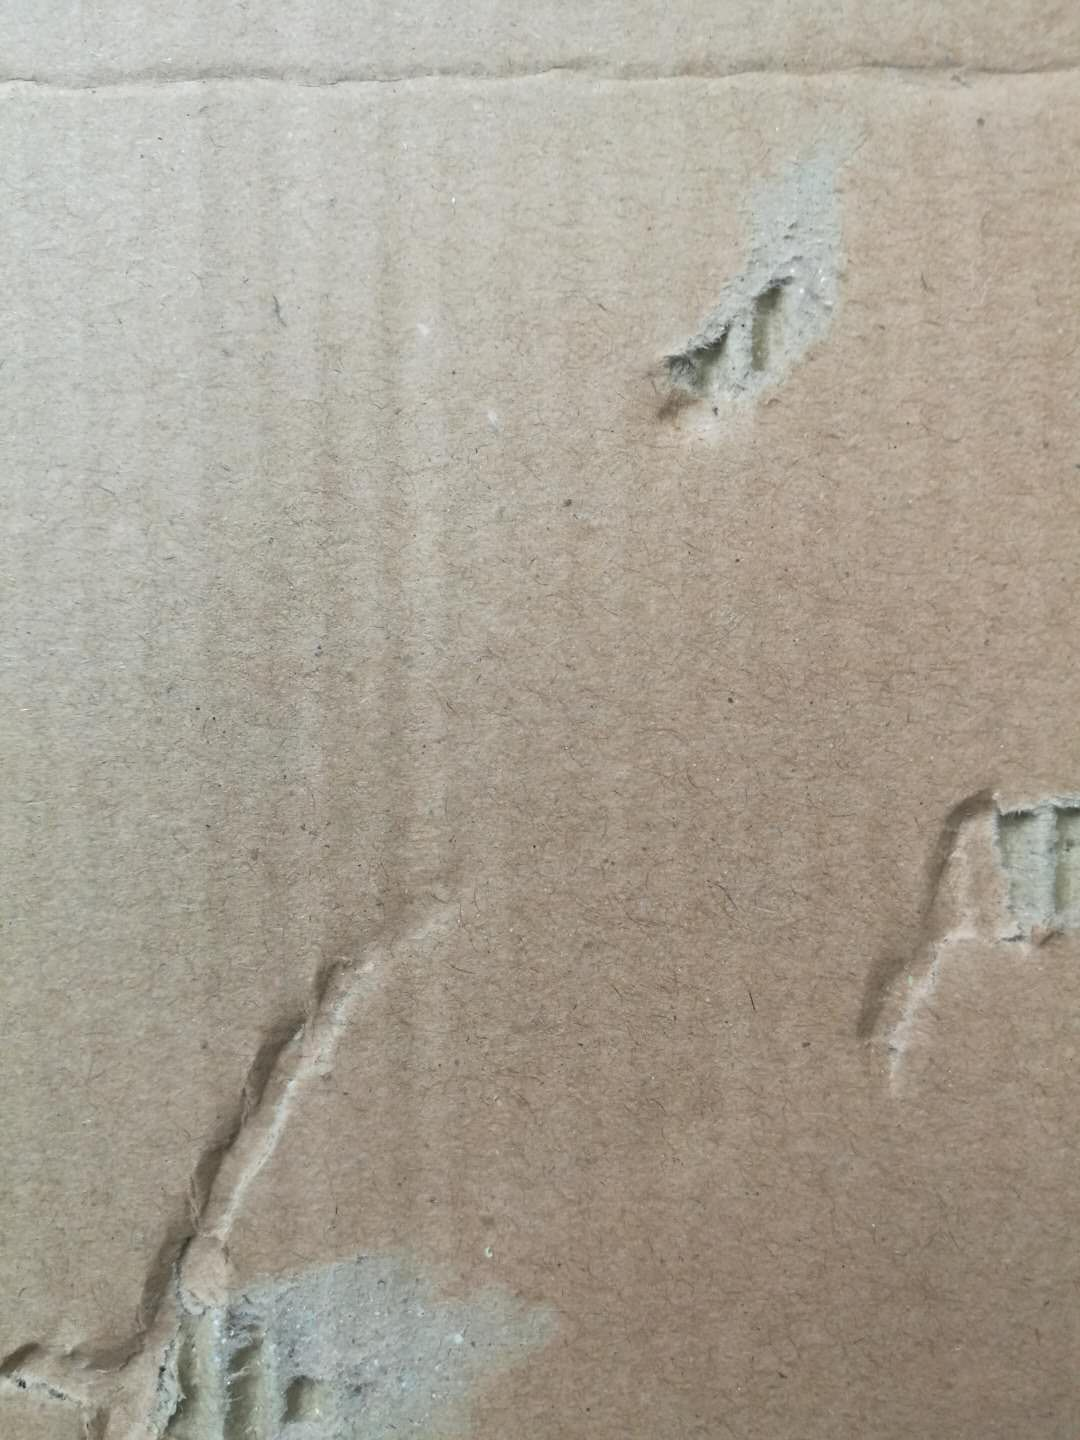defect: (1, 818, 646, 1440), (3, 22, 1080, 139), (625, 113, 894, 473), (842, 753, 1080, 1123)
